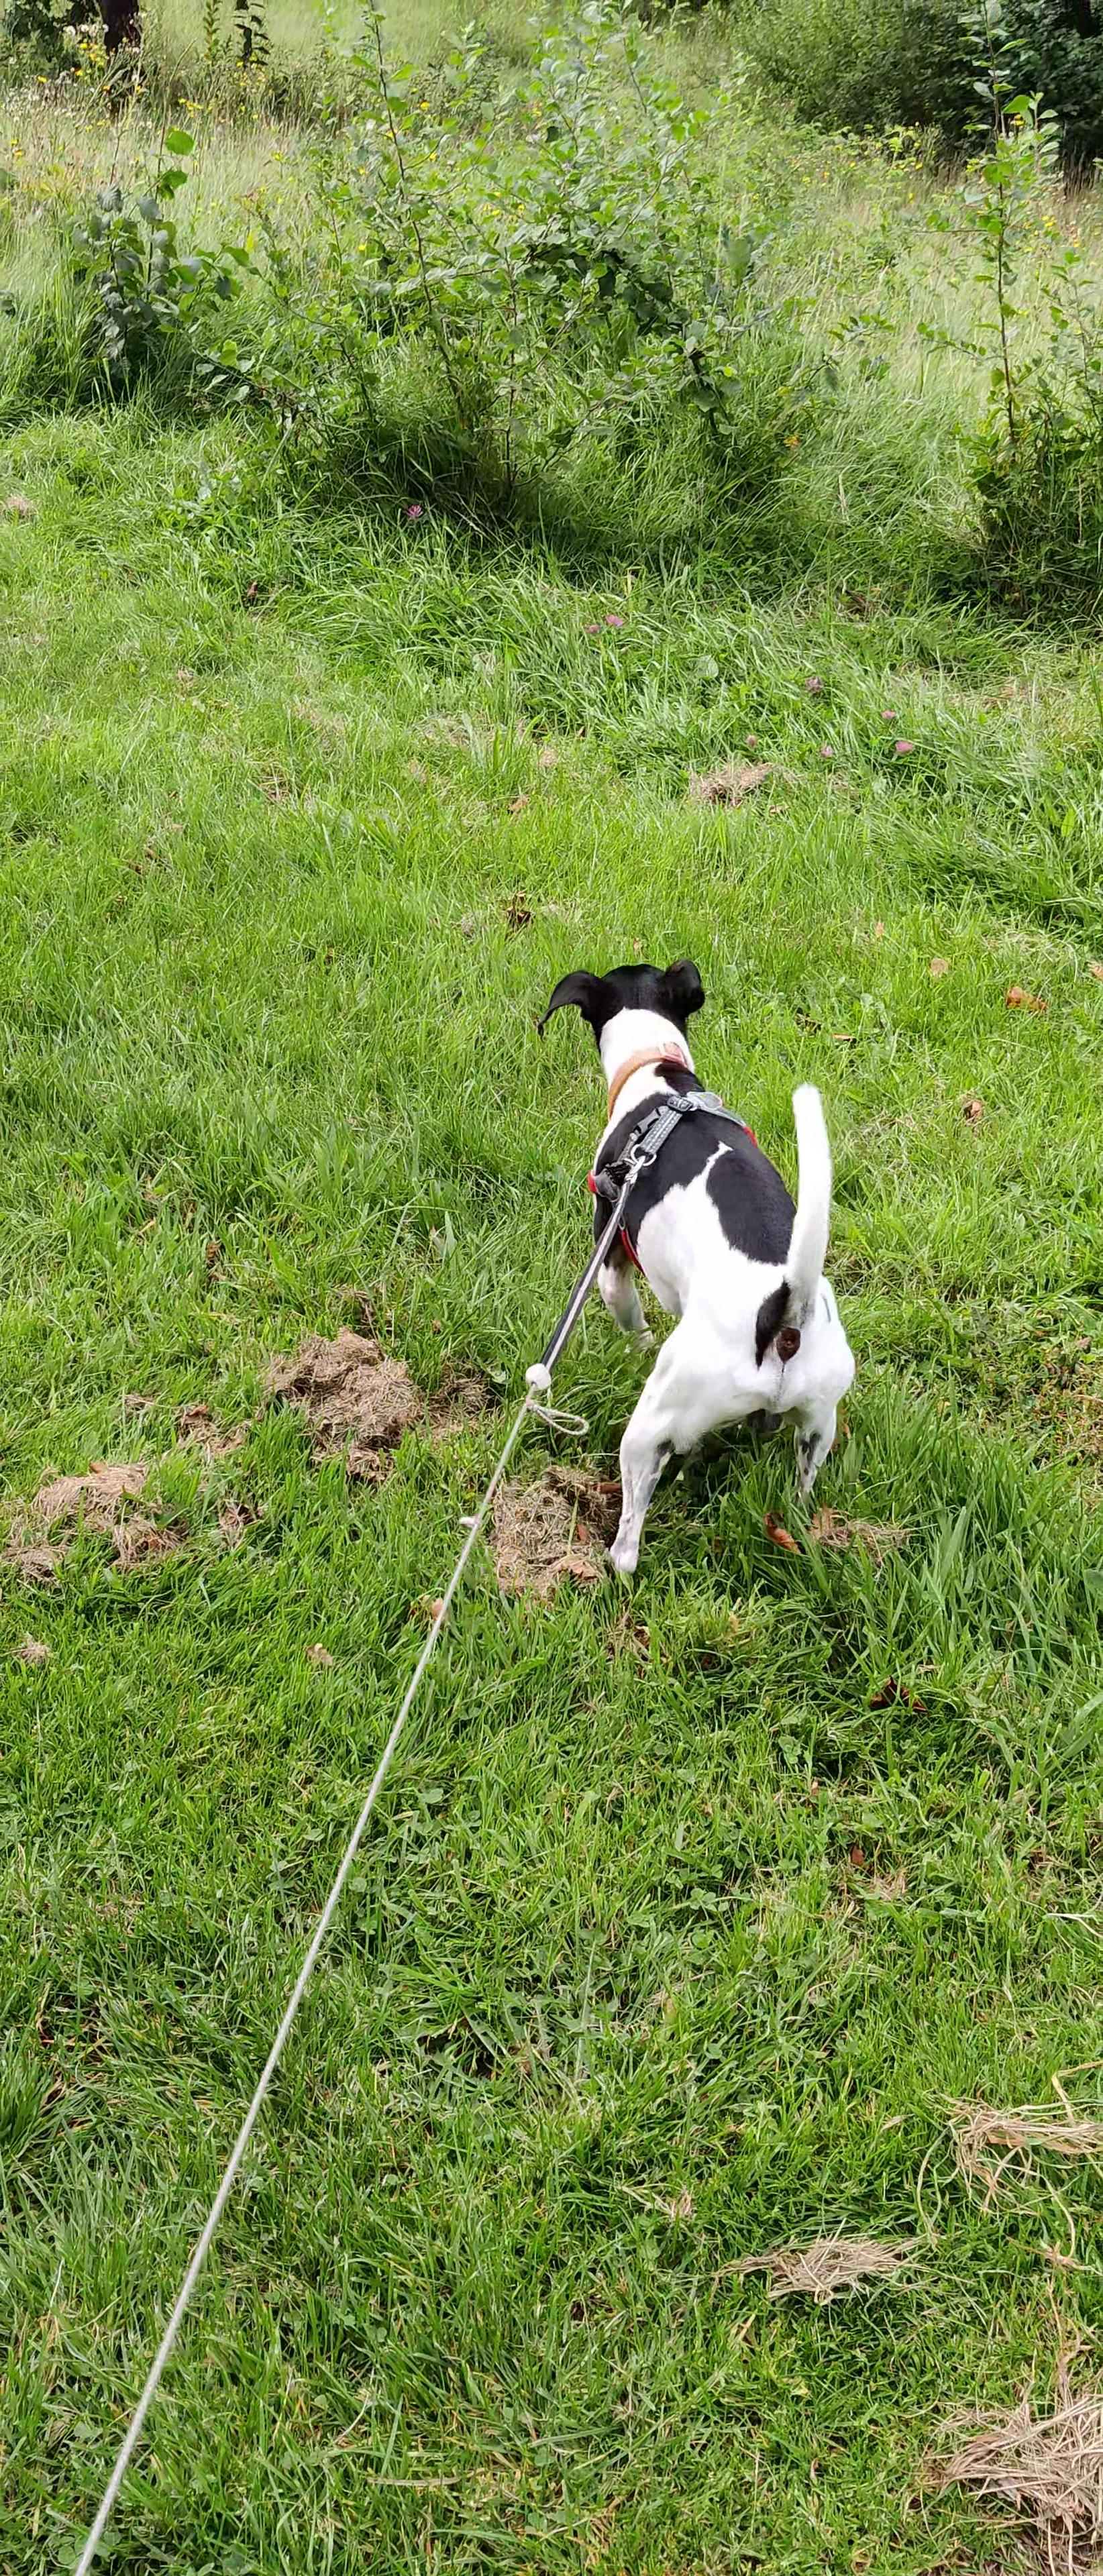Dog: (510, 943, 878, 1608)
